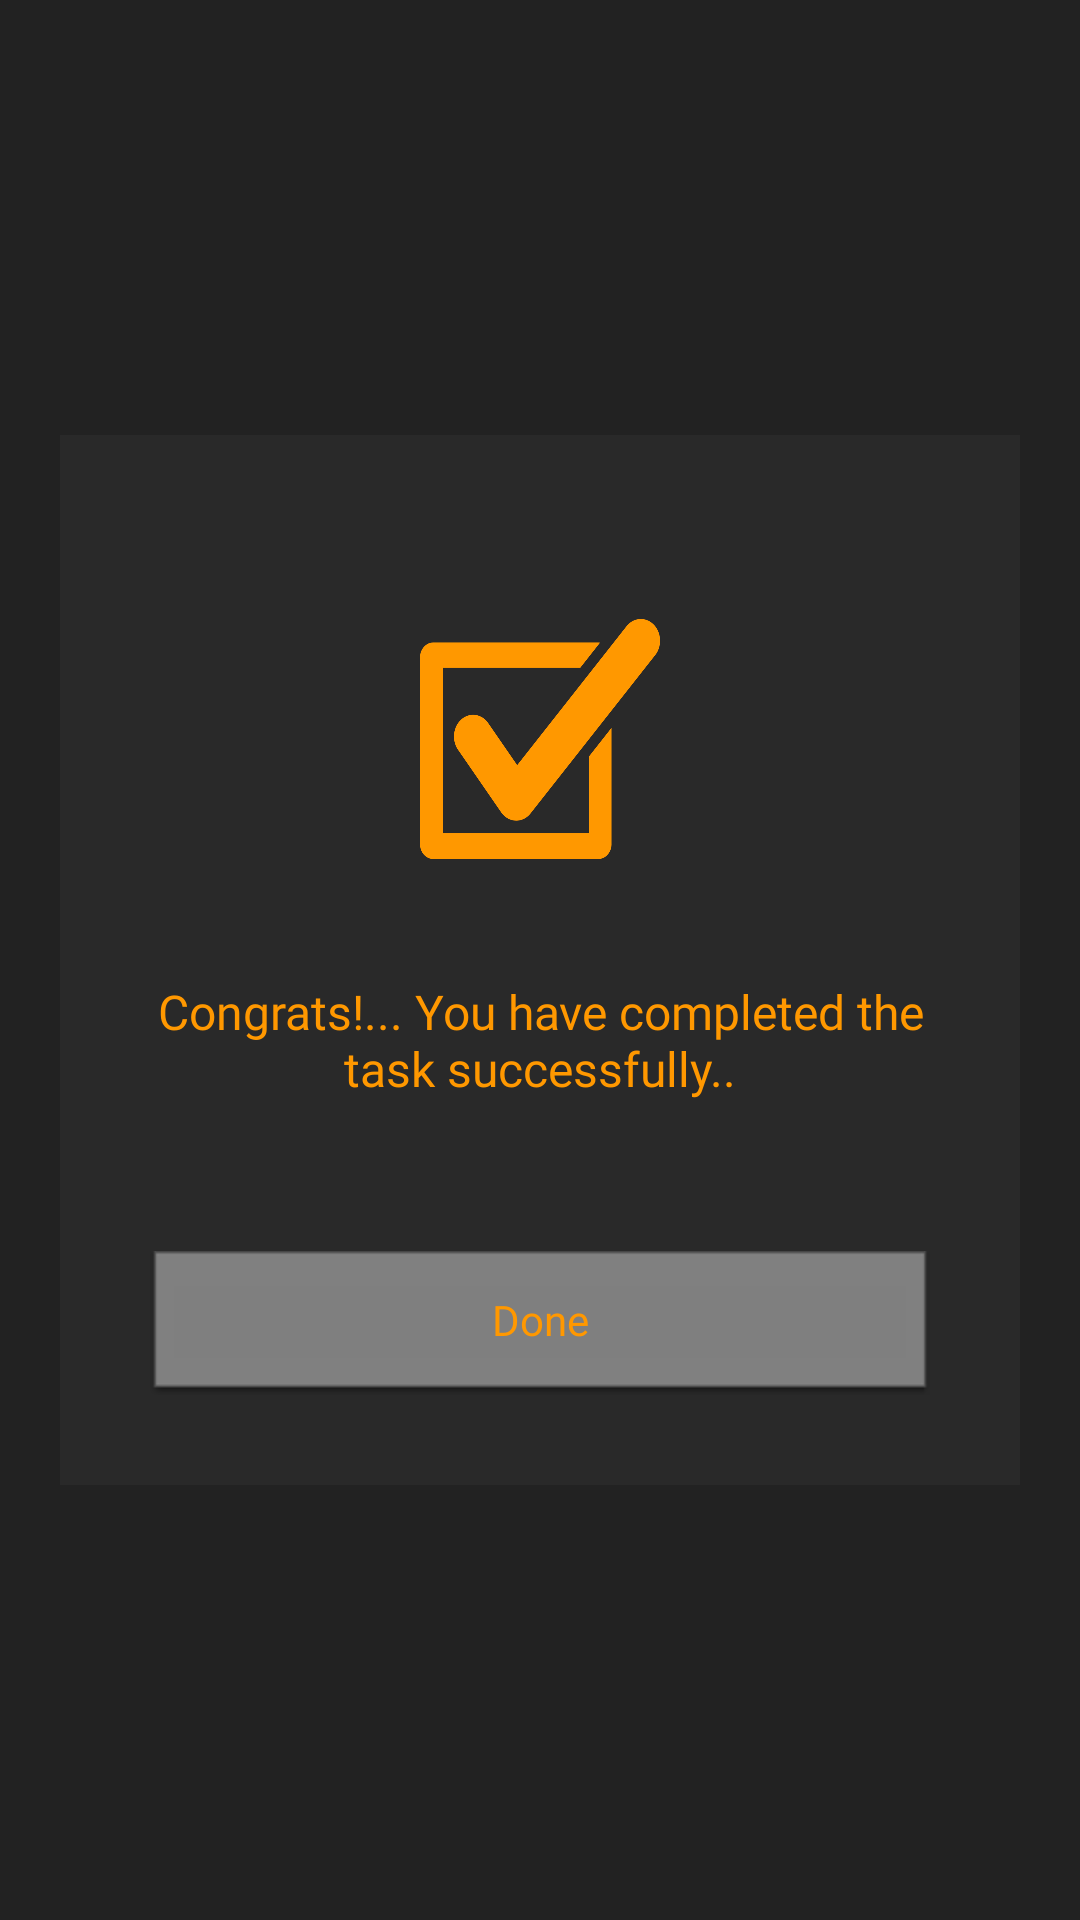

Icon bounding boxes for this 1080x1920 phone screenshot, format (x1, y1, x2, y2):
check mark file: (420, 619, 660, 859)
